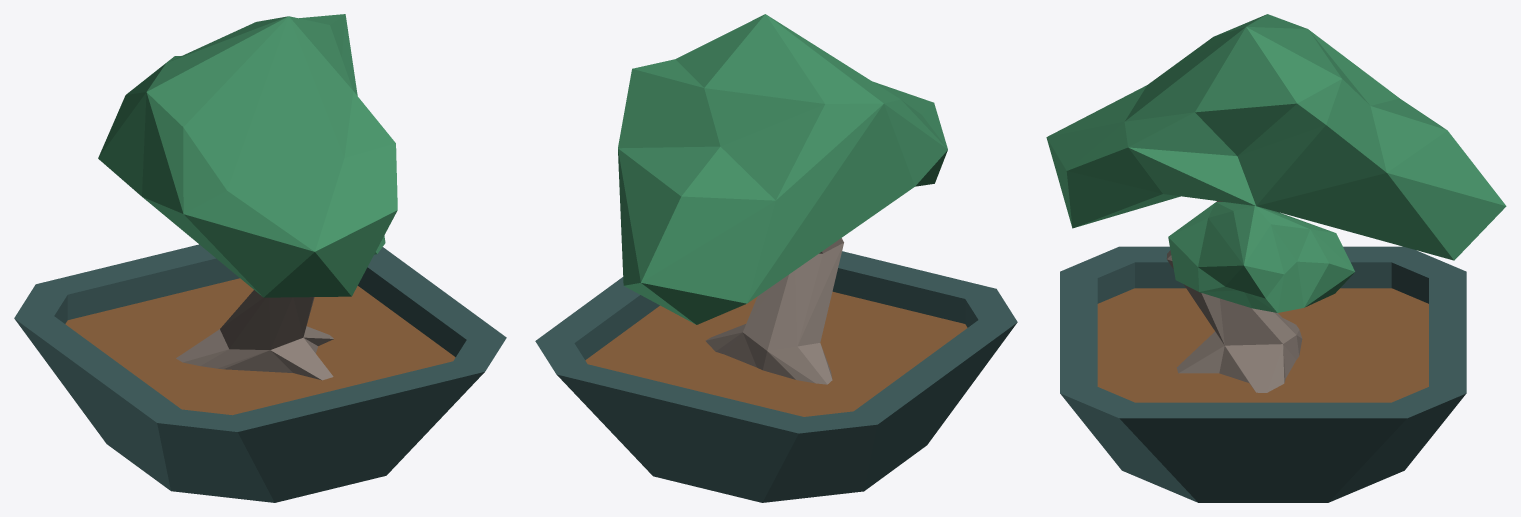
File: Bonsai.fbx
3 renders of one model, left to right at view 1: azimuth 30°, elevation 25°; view 2: azimuth 150°, elevation 25°; view 3: azimuth 270°, elevation 25°, orthographic. The views are drawn at different scales.
Parts seen in each view (by area): view 1: Bonsai; view 2: Bonsai; view 3: Bonsai.
Part boxes in pixels (<box>): Bonsai: <box>14,14,506,502</box>; Bonsai: <box>535,14,1017,502</box>; Bonsai: <box>1046,14,1506,502</box>.
Bounding box in the file's own units: 1.06 × 1.23 × 1.2.
